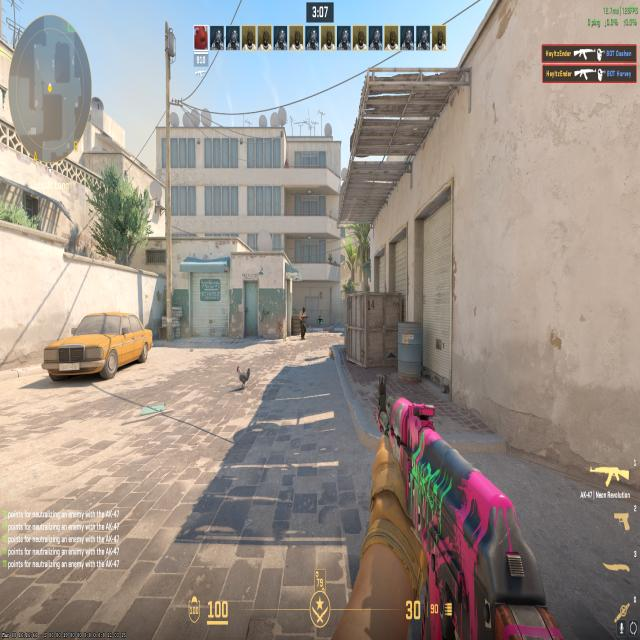t: (296, 304, 310, 342)
